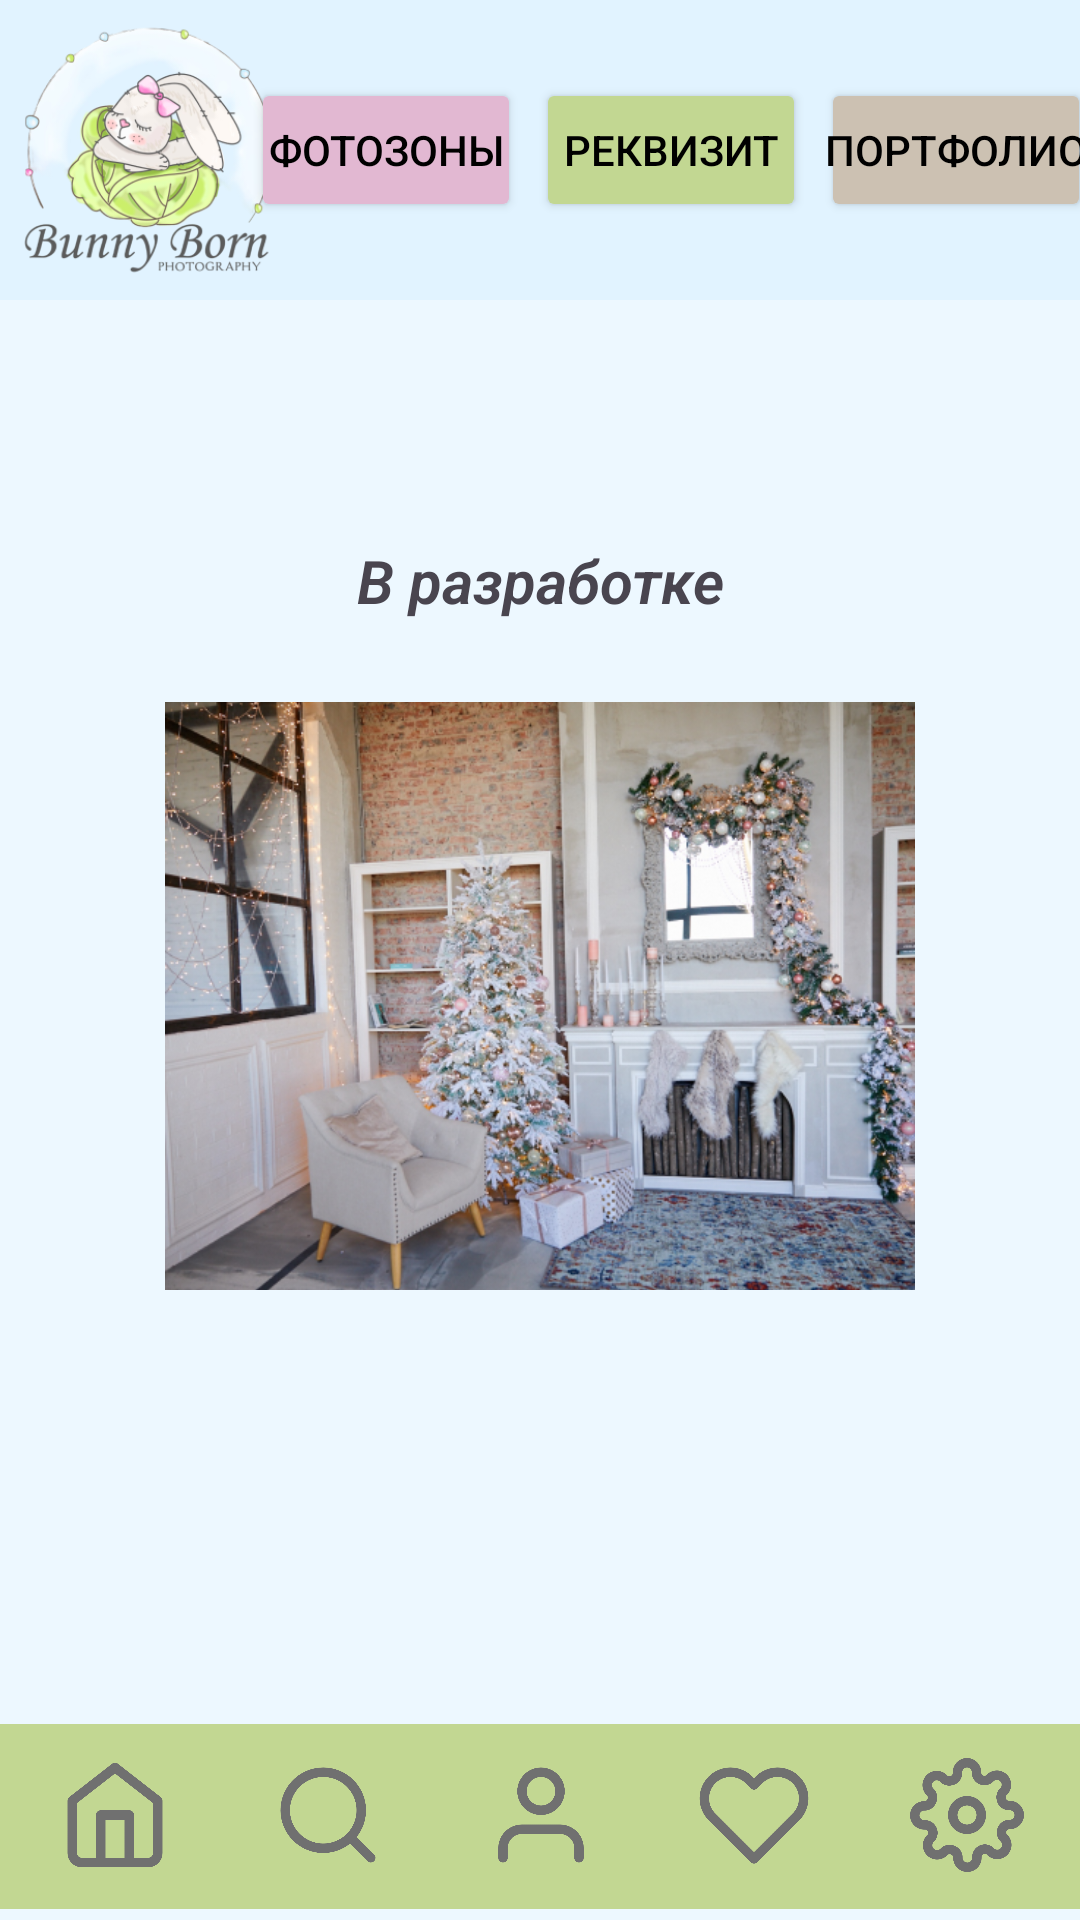

Icon bounding boxes for this 1080px×1920px phone screenshot, format (left=x1, top=y1, right=x2, bottom=y2):
home: (left=67, top=1763, right=163, bottom=1867)
likes: (left=700, top=1767, right=808, bottom=1864)
search: (left=280, top=1767, right=376, bottom=1863)
settings: (left=910, top=1758, right=1024, bottom=1872)
user: (left=498, top=1767, right=584, bottom=1863)
